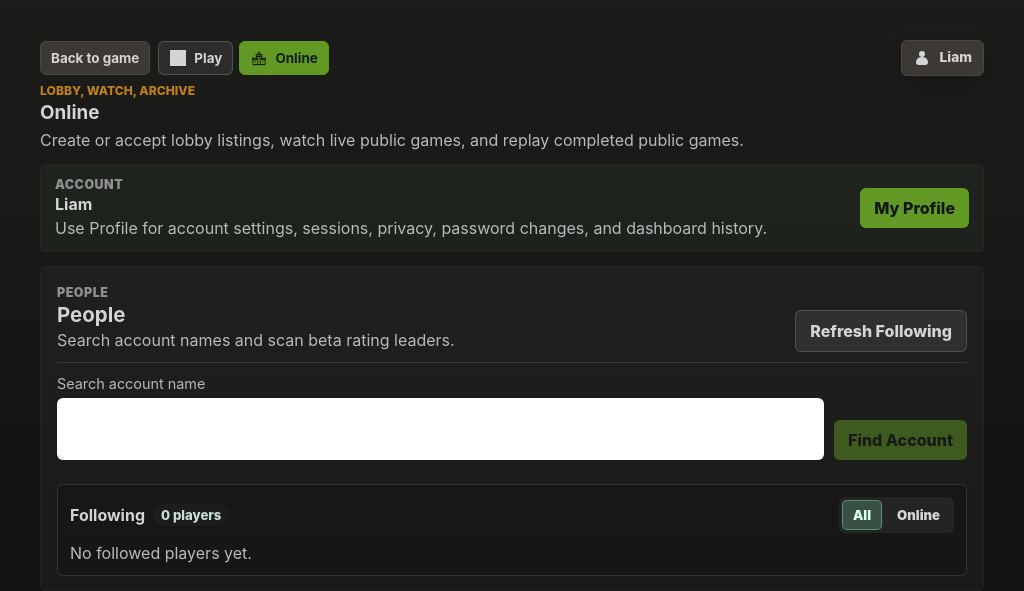
Test: OnlineGameBrowser › suggests account search matches in the Online People panel
In the field labelled "Search account name": (440, 429) [57,398,824,460], type "sam"
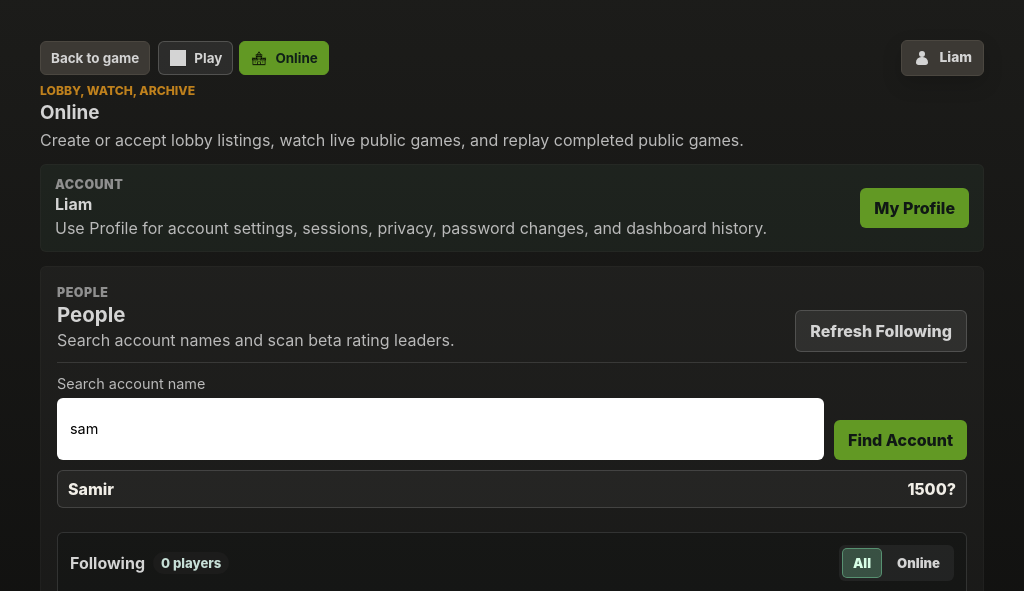
Click the option named "Samir rating 1500?": click(91, 489) [57,470,967,508]
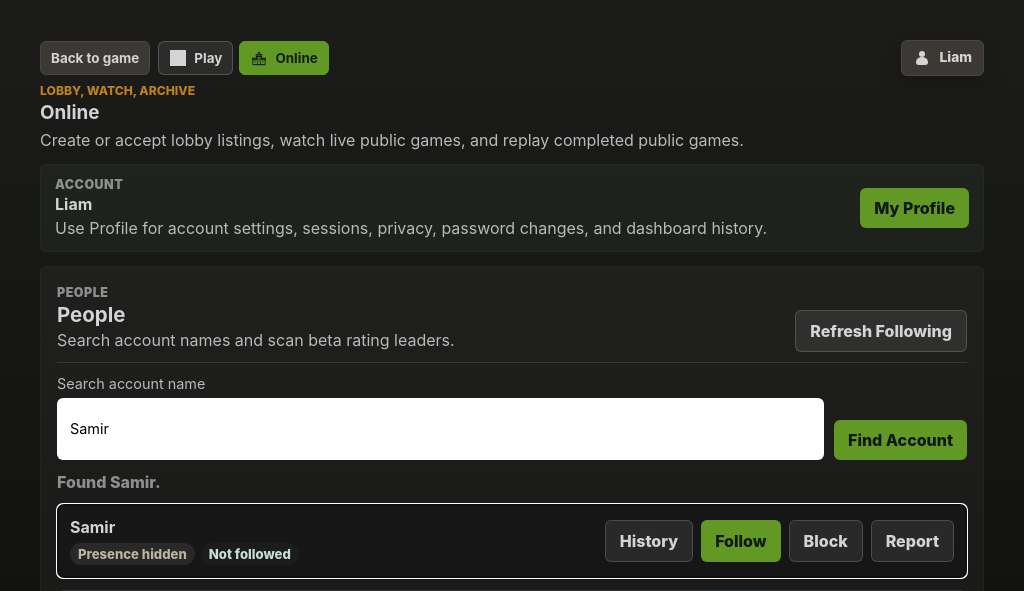
Now the element named "Profile Samir" is shown, box [57,504,967,578]
